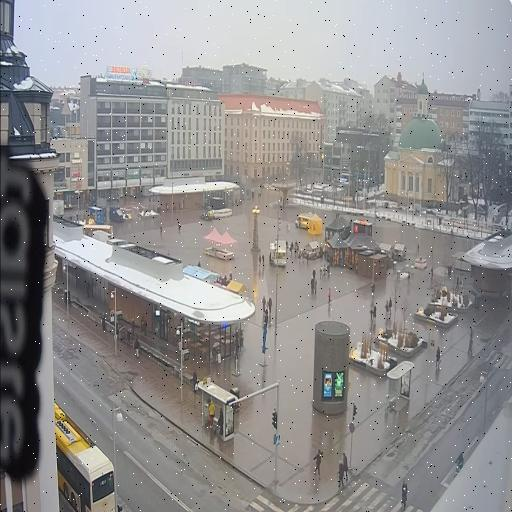Bus: (55, 402, 115, 511)
